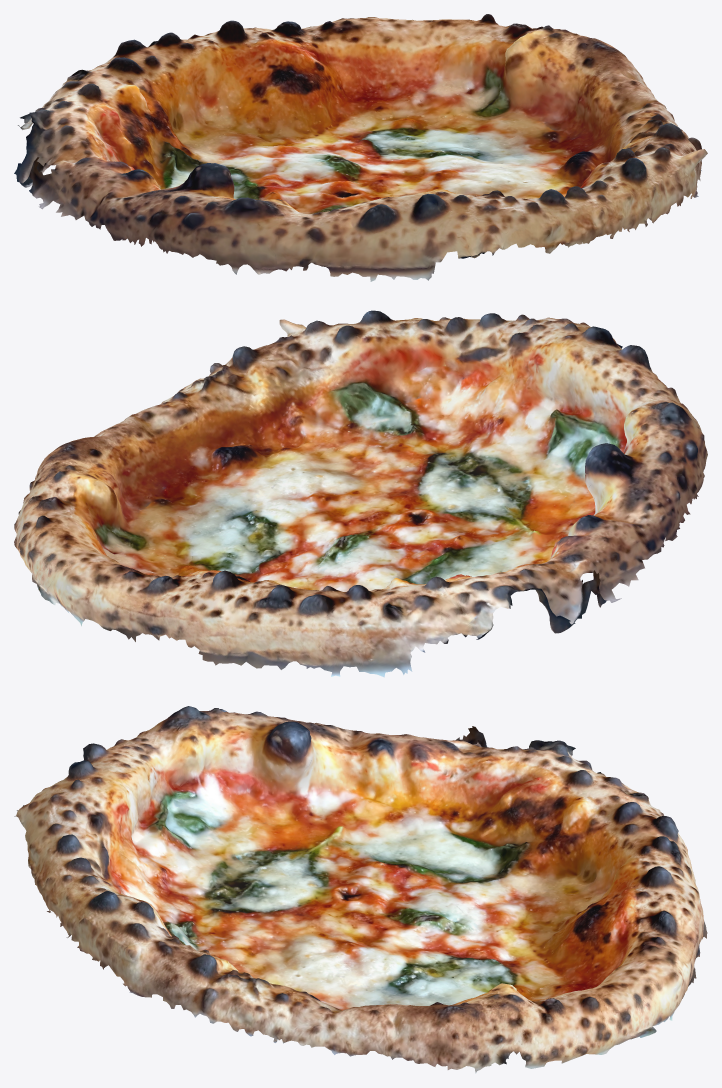
File: pizza_napoletana.glb
3 views of the same model, one above another, from view 1: azimuth 30°, elevation 25°; view 2: azimuth 150°, elevation 25°; view 3: azimuth 270°, elevation 25° (orthographic). The views are drawn at different scales.
Parts seen in each view (by area): view 1: Object_2; view 2: Object_2; view 3: Object_2.
Part boxes in pixels (box(x1,y1,x2,y2)): Object_2: box(14, 14, 707, 281); Object_2: box(14, 310, 707, 677); Object_2: box(14, 706, 707, 1073).
Size of the model in its own units: 212 by 50.39 by 217.
Materials: 1 (1 with a texture image).
